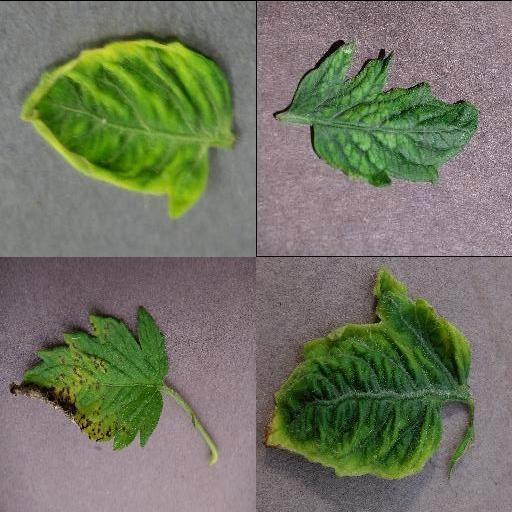Mosaic Virus: (290, 42, 480, 189)
Septoria: (8, 304, 168, 449)
Yellow Leaf Curl Virus: (263, 267, 473, 477), (18, 37, 236, 219)
